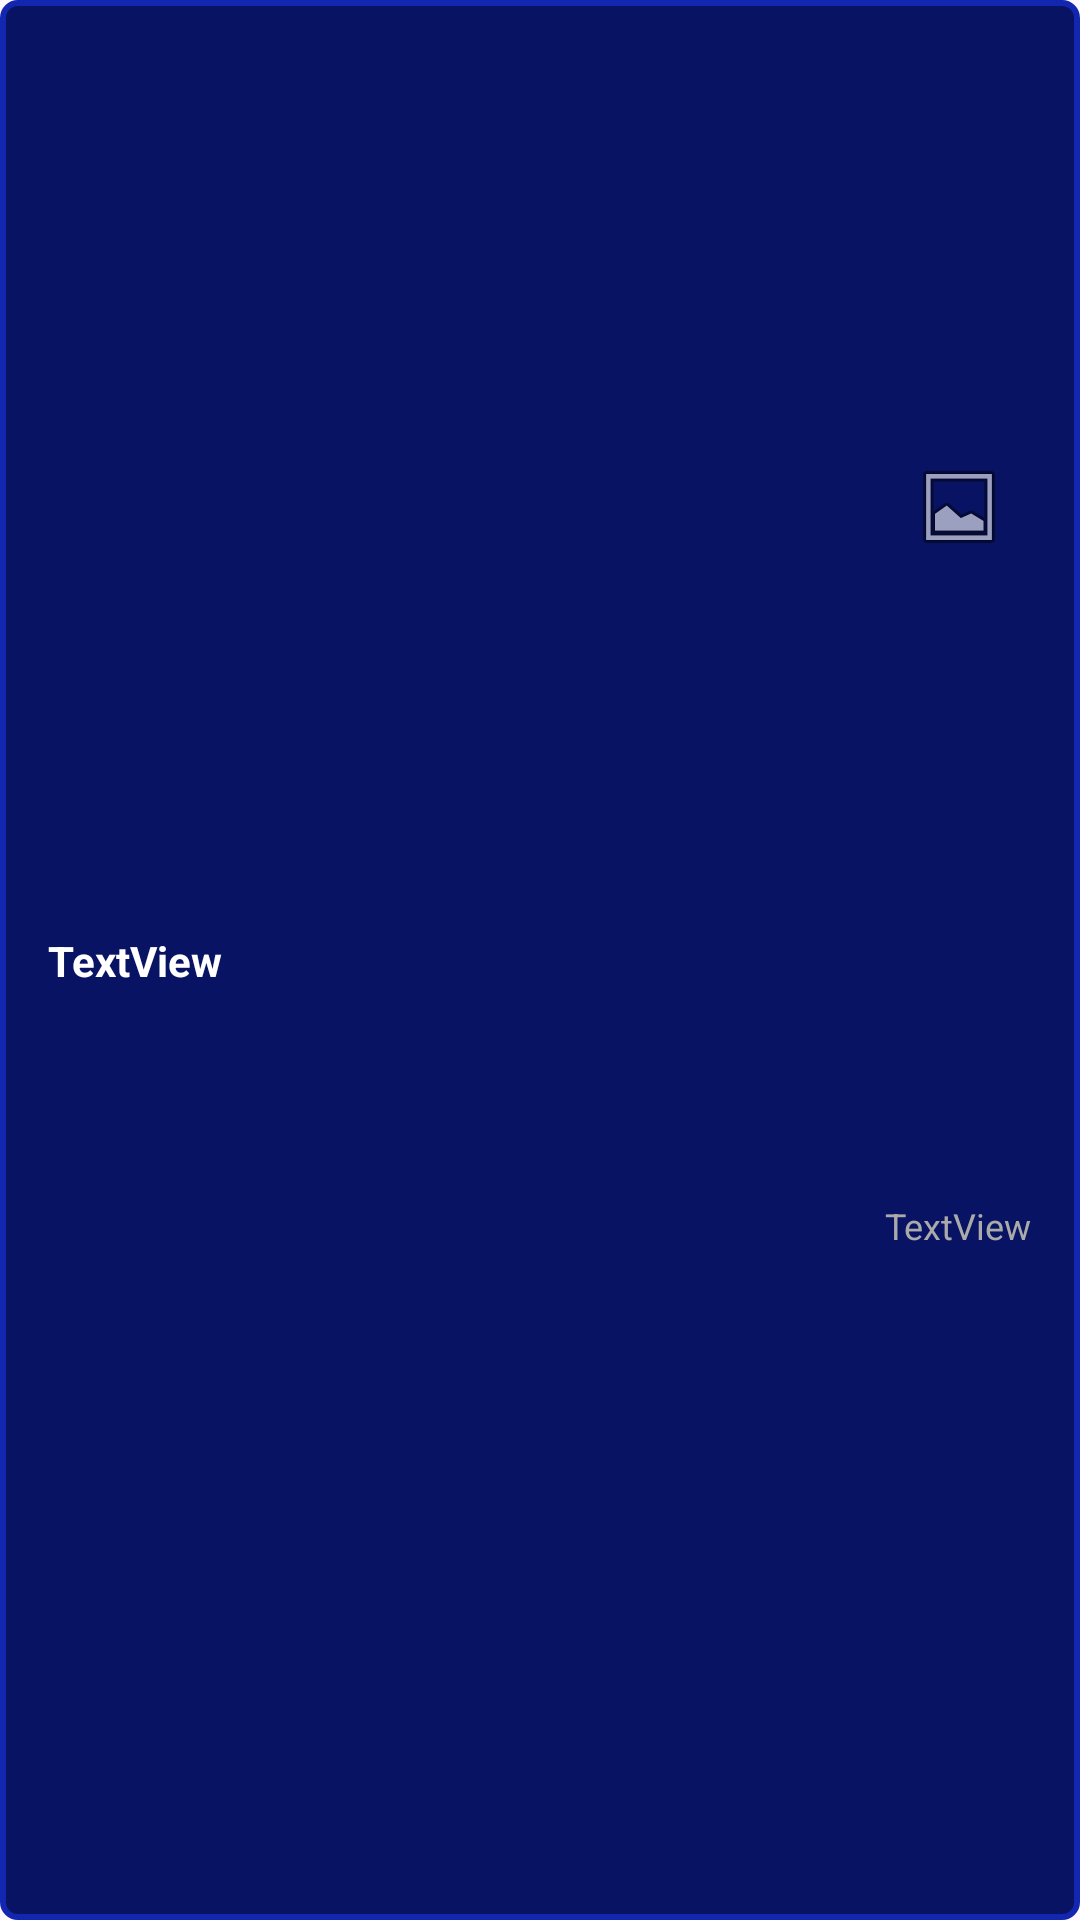

Where icons sit on this 1080px×1920px app screen, as Rect(x1, y1, x2, y2):
gallery: Rect(923, 471, 995, 543)
